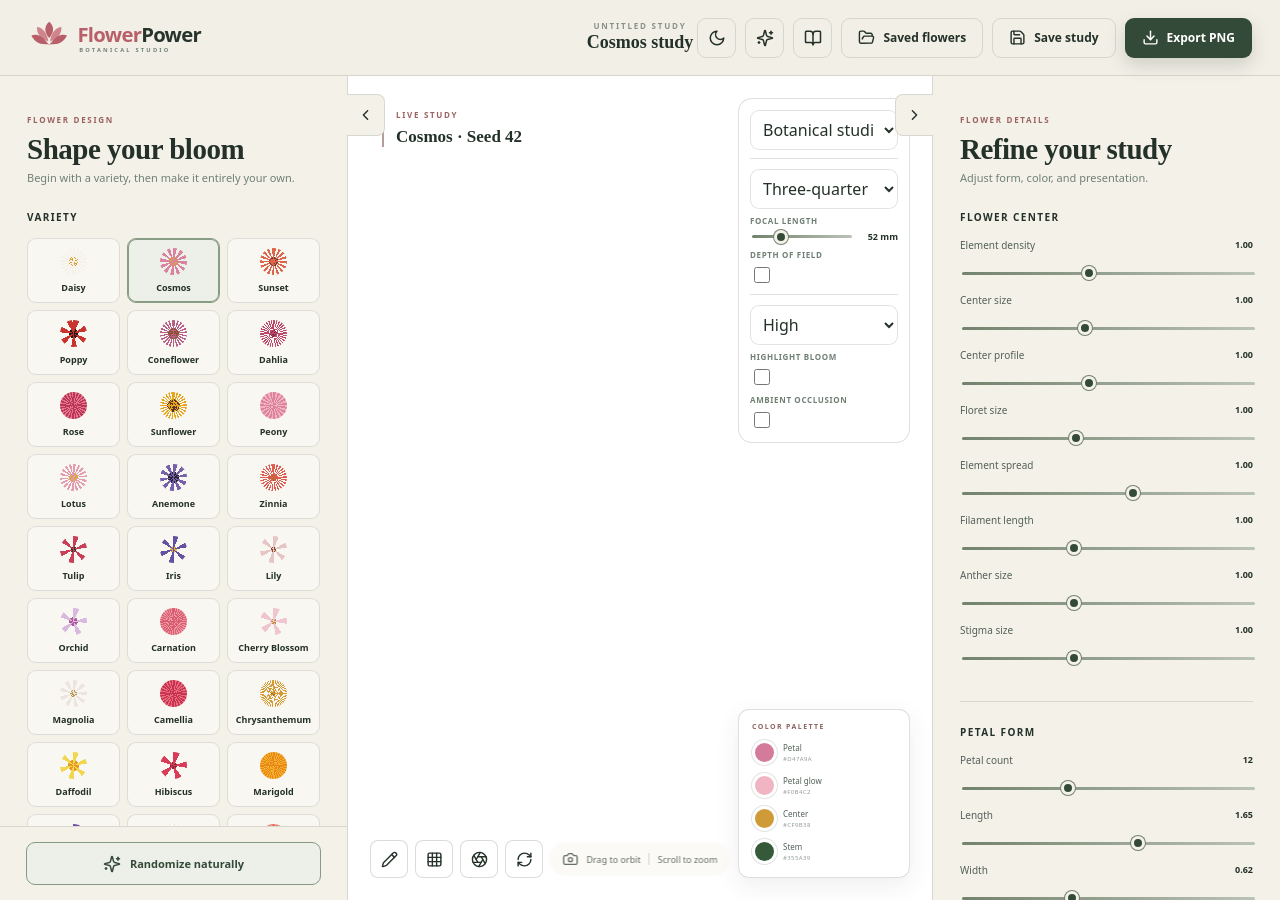
Test: FlowerStudio › enables restrained ambient occlusion controls in photo mode
Click the checkbox named "Enable ambient occlusion" at {"x": 762, "y": 420}, box [754, 412, 770, 428]
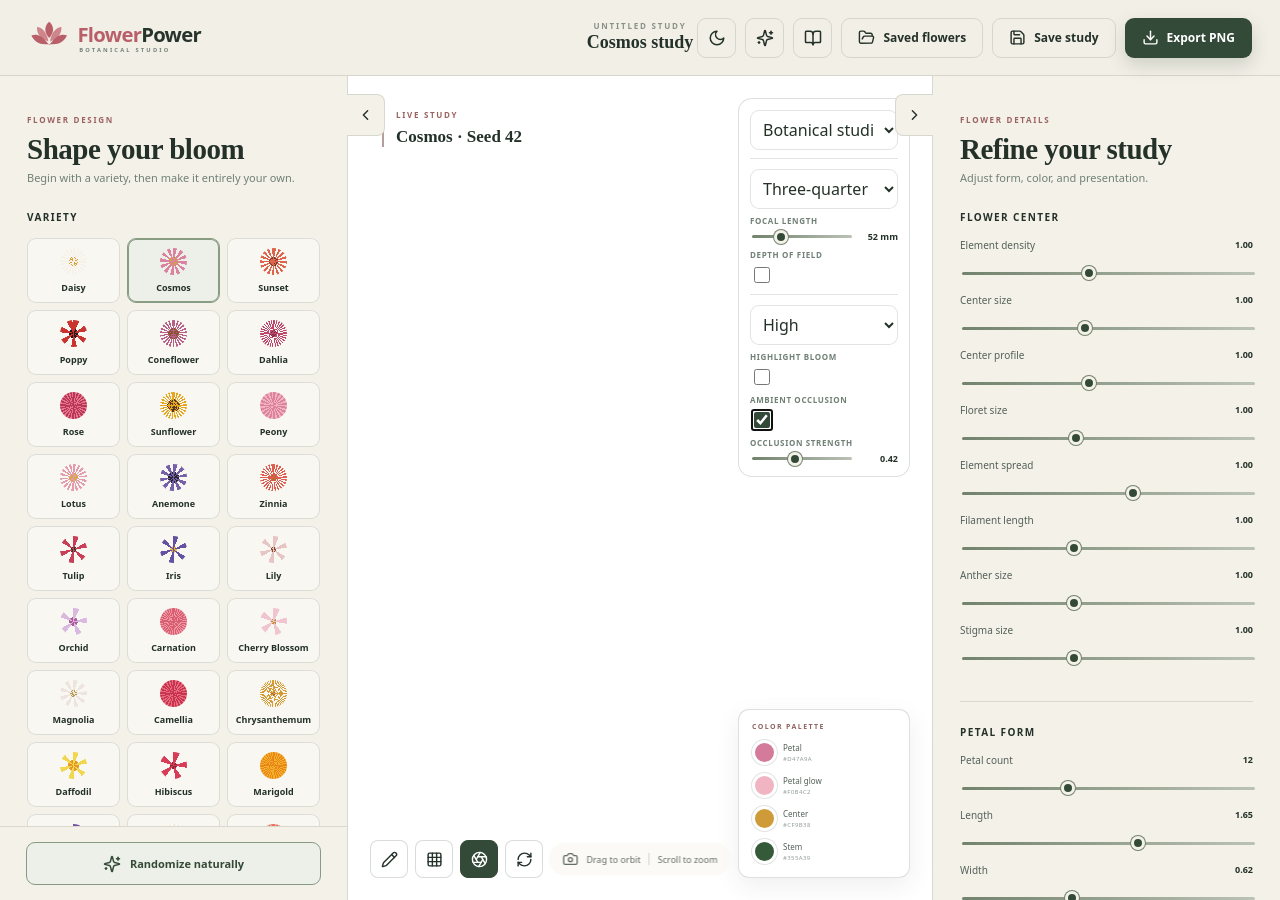
Result: the slider named "Ambient occlusion strength" holds "0.42" at [752, 457, 852, 460]
